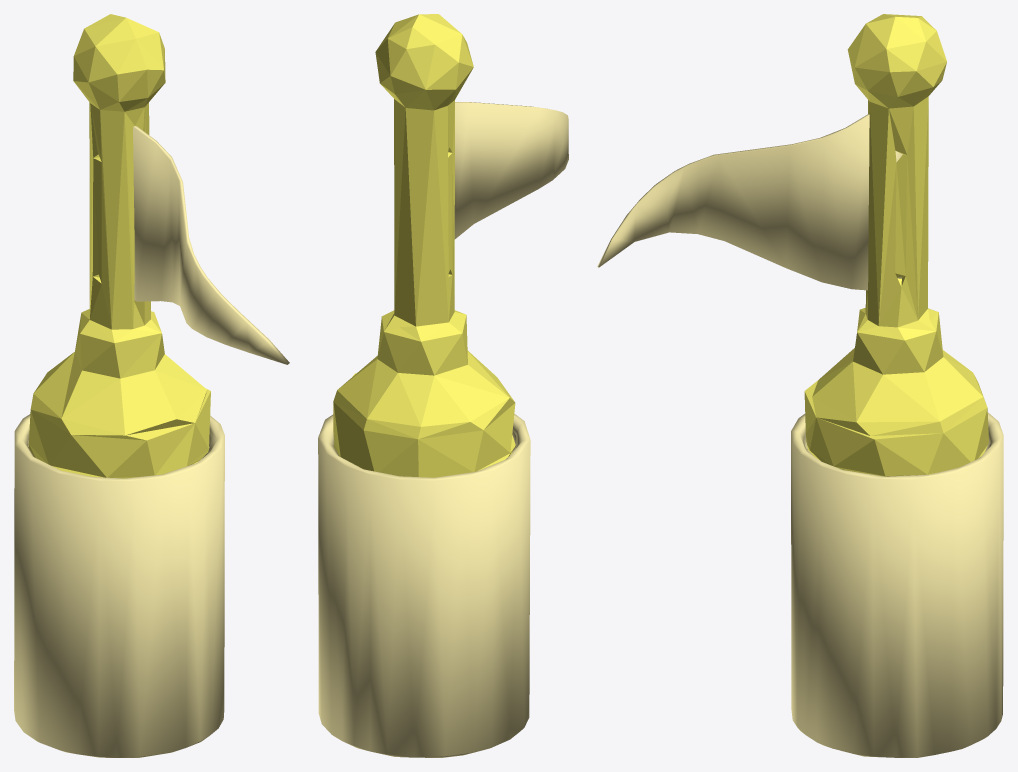
Rendered from flaggold.dae.
3 renders of one model, left to right at view 1: azimuth 30°, elevation 25°; view 2: azimuth 150°, elevation 25°; view 3: azimuth 270°, elevation 25°, orthographic.
Parts seen in each view (by area): view 1: tru_co, Shape_IndexedFaceSet.011, laco; view 2: tru_co, Shape_IndexedFaceSet.011, laco; view 3: tru_co, Shape_IndexedFaceSet.011, laco.
Part boxes in pixels (x1,y1,x2,y2): tru_co: (14, 414, 224, 757); Shape_IndexedFaceSet.011: (28, 14, 210, 478); laco: (133, 126, 289, 364); tru_co: (318, 413, 530, 757); Shape_IndexedFaceSet.011: (333, 14, 515, 477); laco: (454, 102, 568, 239); tru_co: (791, 412, 1003, 757); Shape_IndexedFaceSet.011: (804, 14, 988, 476); laco: (597, 114, 902, 290).
Bounding box in the file's own units: 0.0551 × 0.1053 × 0.2004.
